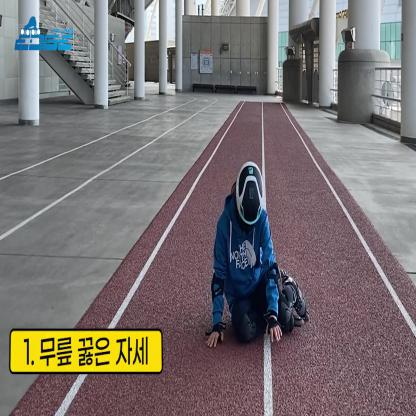Fall_Down: (206, 161, 307, 348)
